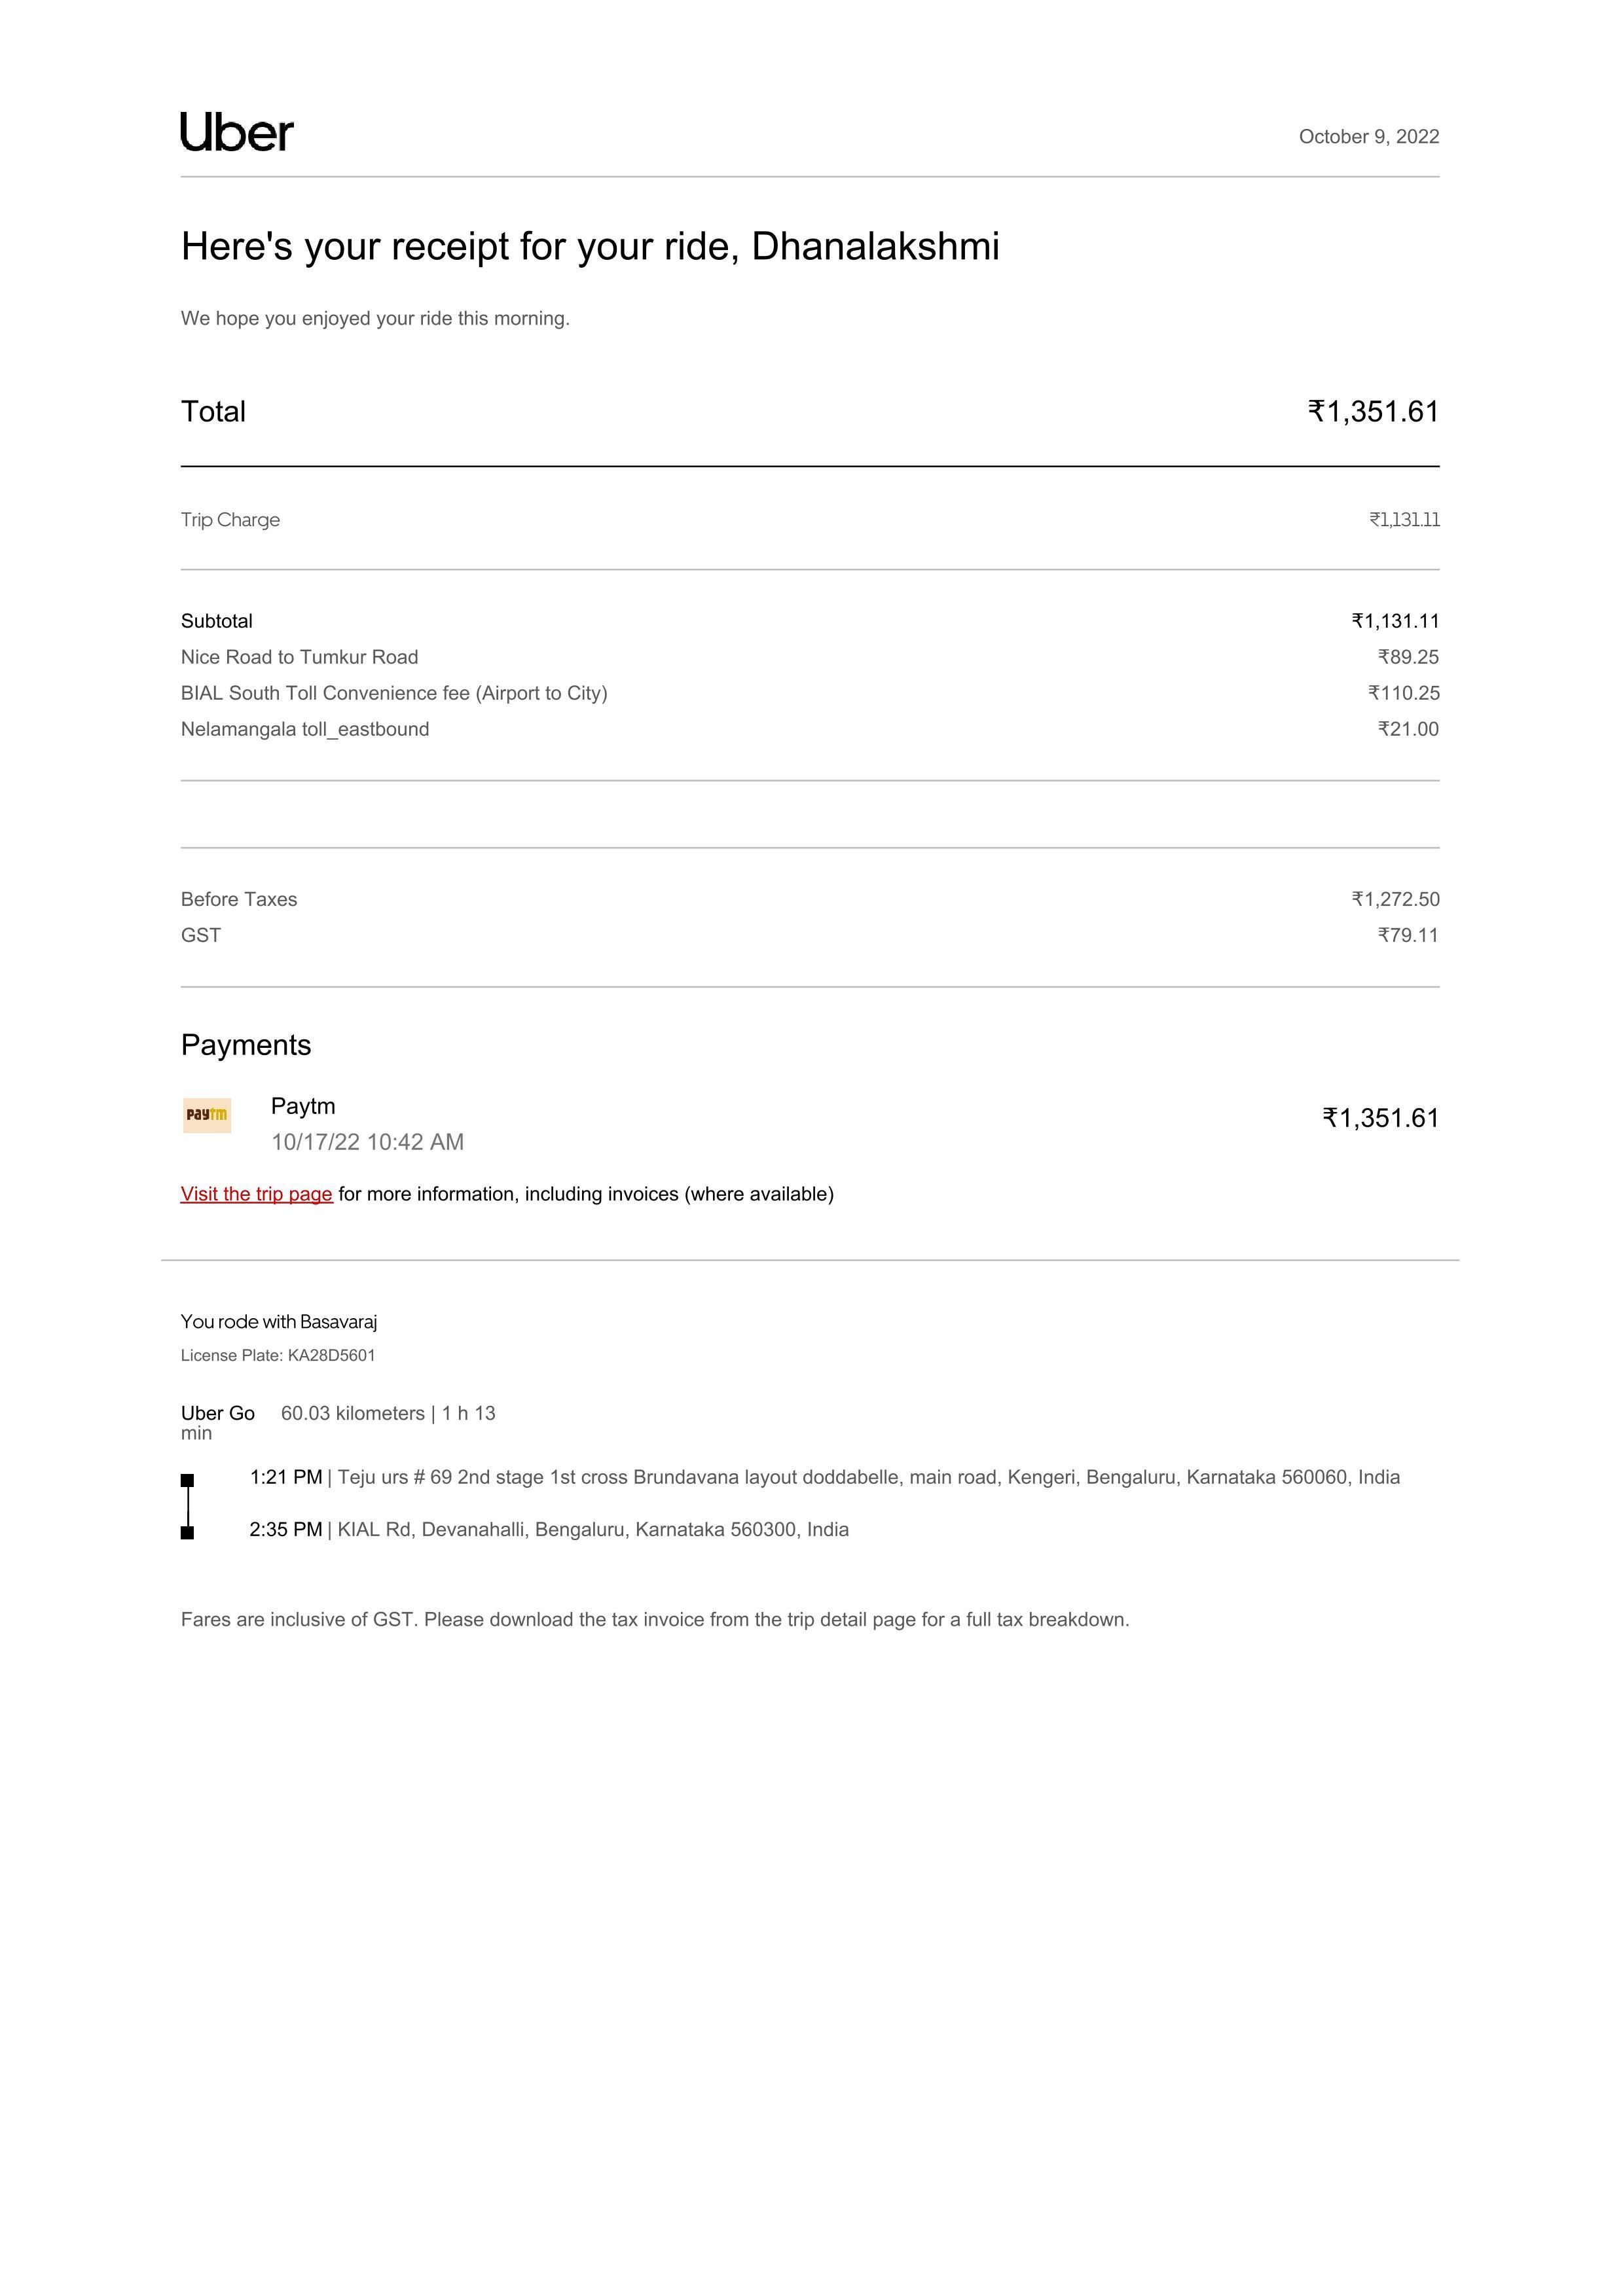InvoiceDate: (1284, 111, 1458, 165)
TotalAmount: (1293, 381, 1467, 439)
